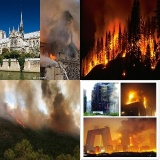fire: (132, 35, 158, 70), (4, 106, 26, 128), (126, 90, 147, 108), (85, 55, 100, 76), (109, 35, 119, 52), (49, 53, 57, 61), (104, 51, 108, 65), (129, 136, 133, 147), (118, 133, 122, 143), (122, 50, 126, 58), (106, 101, 108, 109), (123, 71, 126, 75), (99, 88, 101, 91), (102, 98, 105, 100), (99, 102, 101, 104), (99, 106, 100, 109), (94, 94, 95, 96)
